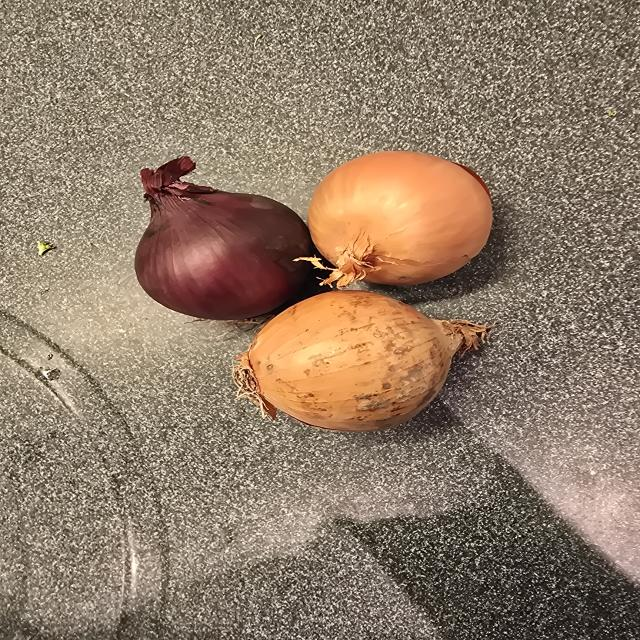Onion: (233, 290, 490, 432), (134, 157, 316, 320), (308, 152, 492, 288)
